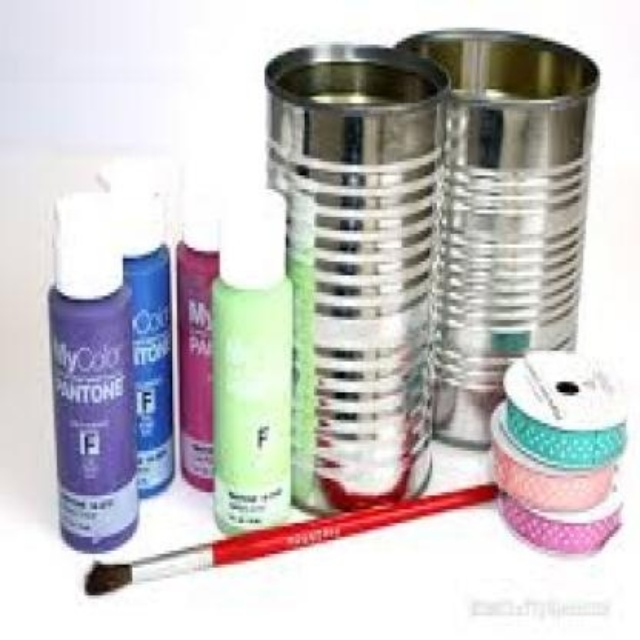trash: (266, 45, 446, 511), (398, 29, 597, 446), (49, 194, 137, 551), (492, 351, 625, 552), (214, 191, 291, 531), (108, 160, 172, 495)
